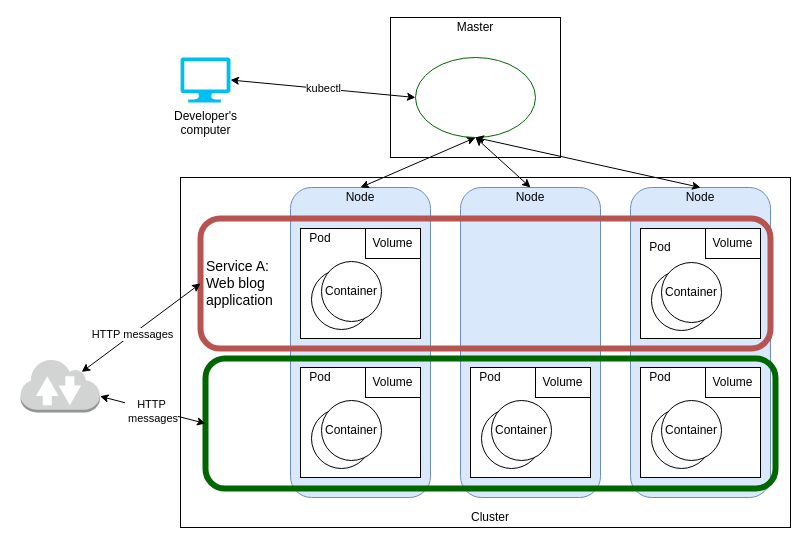
This 808x545 diagram has some shape labels left out. Here are the shapes that lost their labels. From the top down, the centre of each, then its label:
[475,97]: Kubernetes API Server
[490,423]: Service B: Game server
